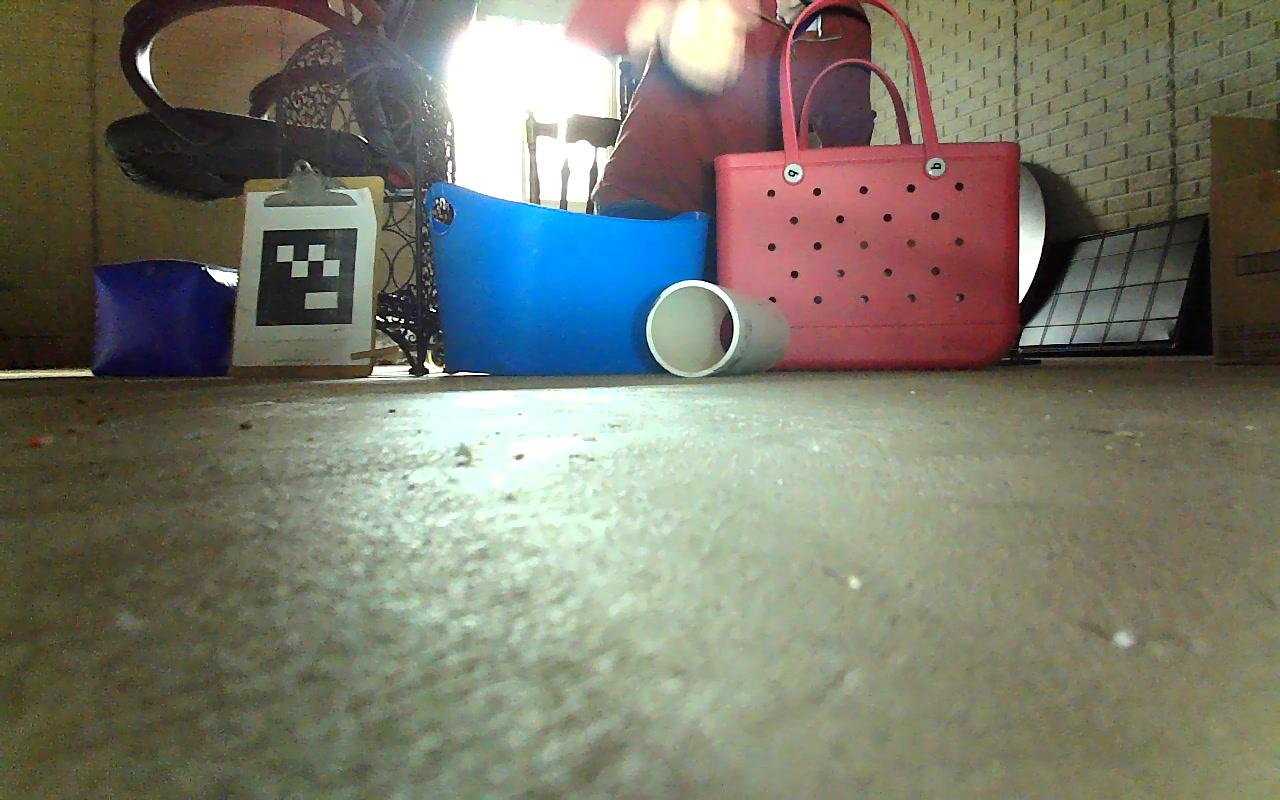coral: (647, 279, 791, 377)
